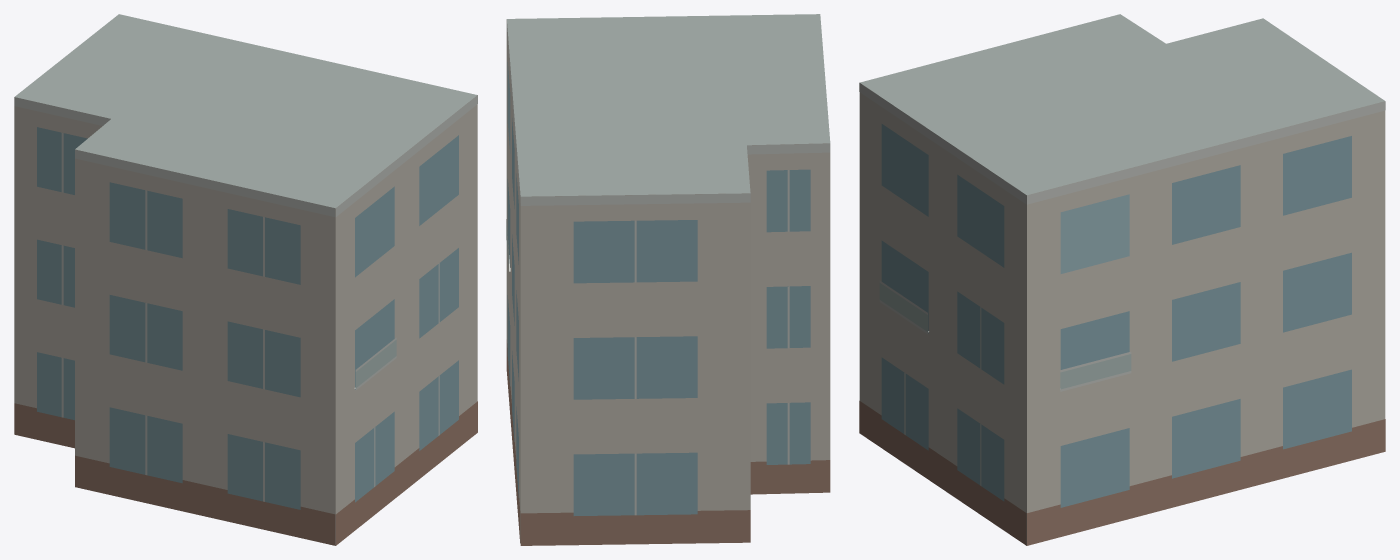
File: survey-upis-32495848.glb
The picture shows the model from 3 angles, left to right: view 1: azimuth 30°, elevation 25°; view 2: azimuth 150°, elevation 25°; view 3: azimuth 270°, elevation 25°; orthographic projection. The views are drawn at different scales.
Visible parts, largest first — view 1: survey-upis-32495848.tmp; view 2: survey-upis-32495848.tmp; view 3: survey-upis-32495848.tmp.
Boxes of the visible parts, x1,y1,x2,y2 form: survey-upis-32495848.tmp: (14,14,477,545); survey-upis-32495848.tmp: (506,14,830,545); survey-upis-32495848.tmp: (859,14,1385,545).
Bounding box in the file's own units: 10.1 × 9.1 × 12.38.
